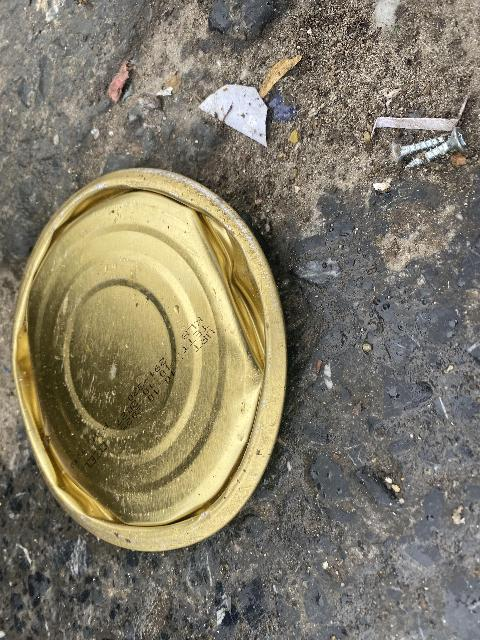Kagit: (197, 83, 271, 151)
Metal: (0, 171, 292, 552), (395, 132, 471, 163)
